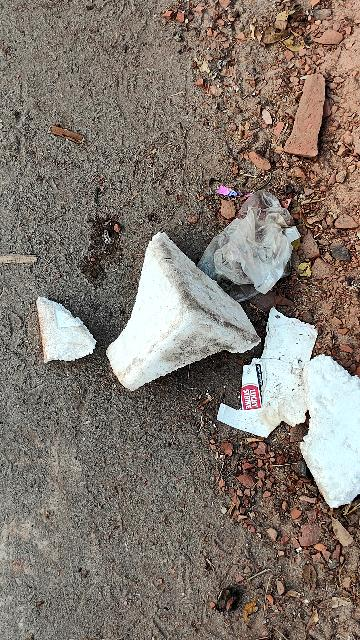cocksheet: (70, 217, 253, 395), (212, 316, 360, 512), (28, 292, 104, 376)
